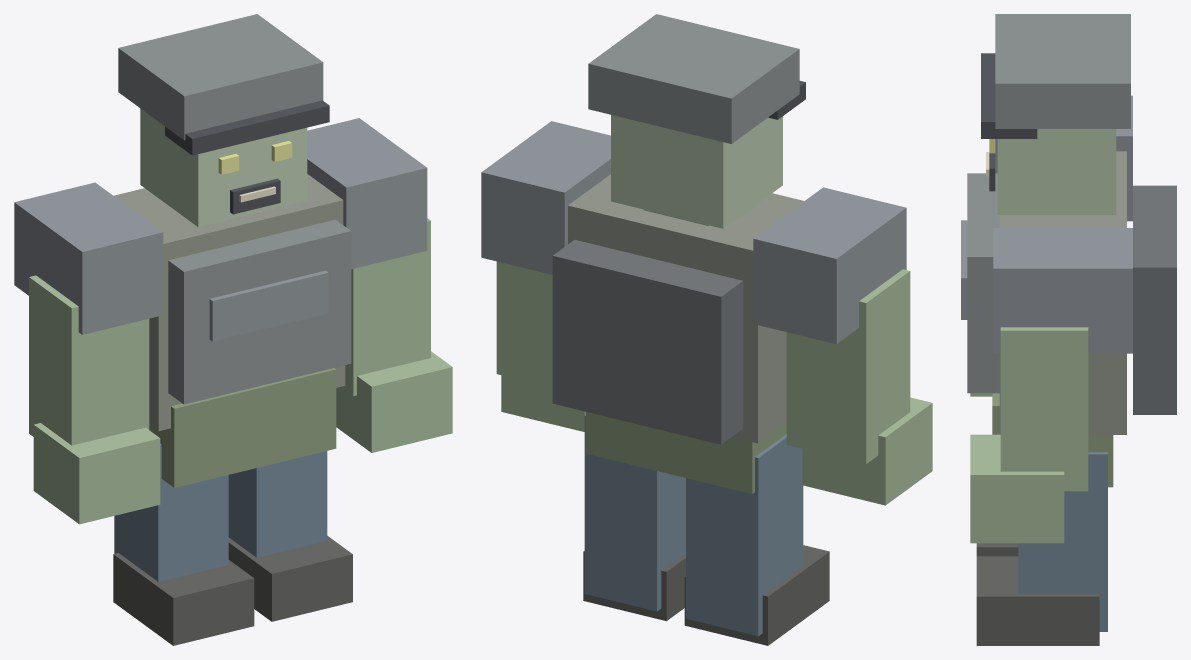
The model's file is zombie_tank.glb.
3 renders of one model, left to right at view 1: azimuth 30°, elevation 25°; view 2: azimuth 150°, elevation 25°; view 3: azimuth 270°, elevation 25°, orthographic. The views are drawn at different scales.
Parts seen in each view (by area): view 1: ArmorChest, Helmet, ShoulderL, ArmL, Belly, ShoulderR, Head, FistL, HeavyTorso, ArmR, LegL, BootL (+6 smaller); view 2: BackArmor, Helmet, ShoulderL, LegL, ArmL, HeavyTorso, Head, ShoulderR, LegR, Belly, FistL, ArmR (+3 smaller); view 3: Helmet, ShoulderR, ArmR, BackArmor, Head, BootR, LegR, FistR, ArmorChest, HeavyTorso, HelmetBrim, Belly (+3 smaller).
Part boxes in pixels (<box>): ArmorChest: <box>168,219,351,404</box>; Helmet: <box>118,14,323,140</box>; ShoulderL: <box>14,182,163,334</box>; ArmL: <box>29,275,149,445</box>; Belly: <box>149,368,336,487</box>; ShoulderR: <box>307,118,427,269</box>; Head: <box>140,108,307,227</box>; FistL: <box>33,423,160,524</box>; HeavyTorso: <box>114,174,345,431</box>; ArmR: <box>341,218,430,395</box>; LegL: <box>114,444,228,581</box>; BootL: <box>113,553,254,645</box>; BackArmor: <box>552,240,743,444</box>; Helmet: <box>588,14,799,143</box>; ShoulderL: <box>753,187,906,344</box>; LegL: <box>686,434,803,636</box>; ArmL: <box>786,269,910,463</box>; HeavyTorso: <box>568,174,803,443</box>; Head: <box>611,115,782,228</box>; ShoulderR: <box>481,121,610,274</box>; LegR: <box>584,415,685,611</box>; Belly: <box>585,412,786,493</box>; FistL: <box>802,397,932,505</box>; ArmR: <box>496,261,552,387</box>; Helmet: <box>995,14,1130,128</box>; ShoulderR: <box>993,228,1132,353</box>; ArmR: <box>1000,327,1088,491</box>; BackArmor: <box>1133,185,1176,414</box>; Head: <box>997,129,1116,214</box>; BootR: <box>976,556,1099,645</box>; LegR: <box>1018,452,1107,631</box>; FistR: <box>970,434,1064,543</box>; ArmorChest: <box>967,173,999,393</box>; HeavyTorso: <box>999,151,1126,434</box>; HelmetBrim: <box>981,53,1037,138</box>; Belly: <box>992,393,1113,487</box>.
Size of the model in its own units: 2.12 by 2.92 by 1.04.
